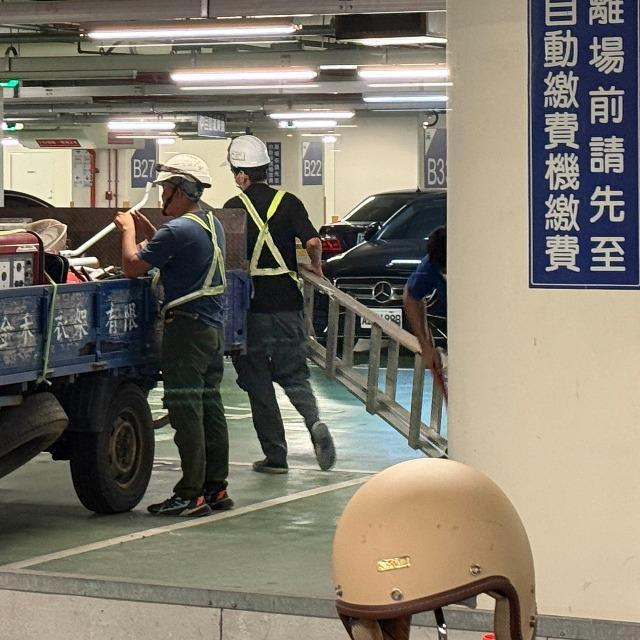Helmet: (150, 151, 215, 209), (222, 131, 277, 188)
Vest: (226, 187, 310, 301), (151, 212, 234, 317)
